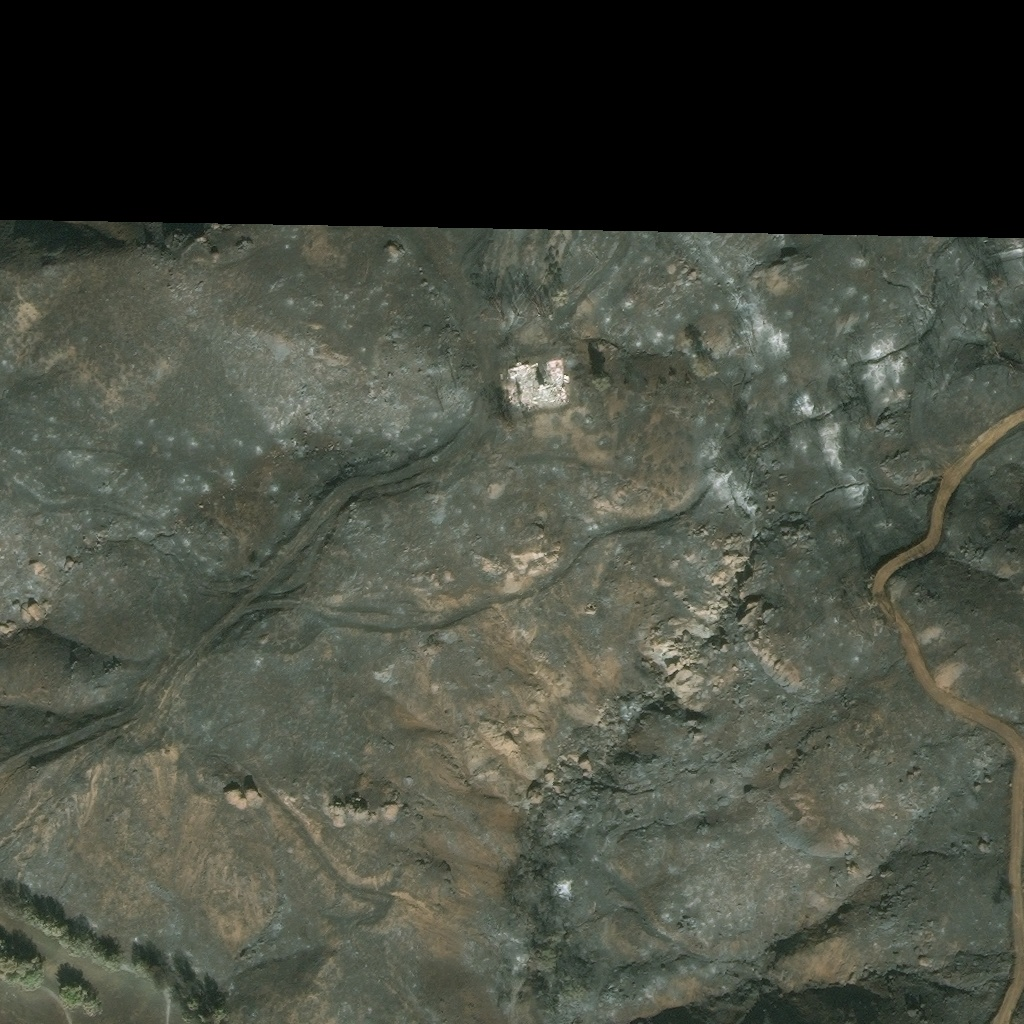3 destroyed: (506, 358, 569, 409)
